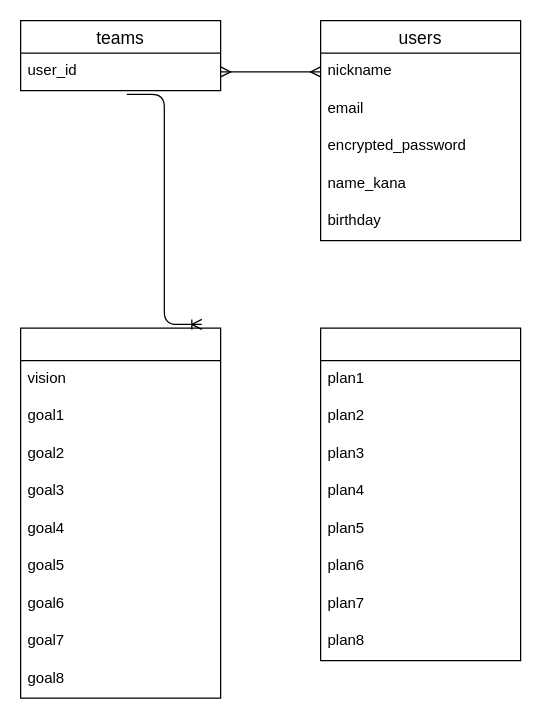
Image size: 541x719. Some labels were removed from this diagram. The box of each missing label's shape, as (x1, y1, x2, y2) in pixels:
actions: (319, 327, 521, 661)
visions: (19, 327, 221, 698)
